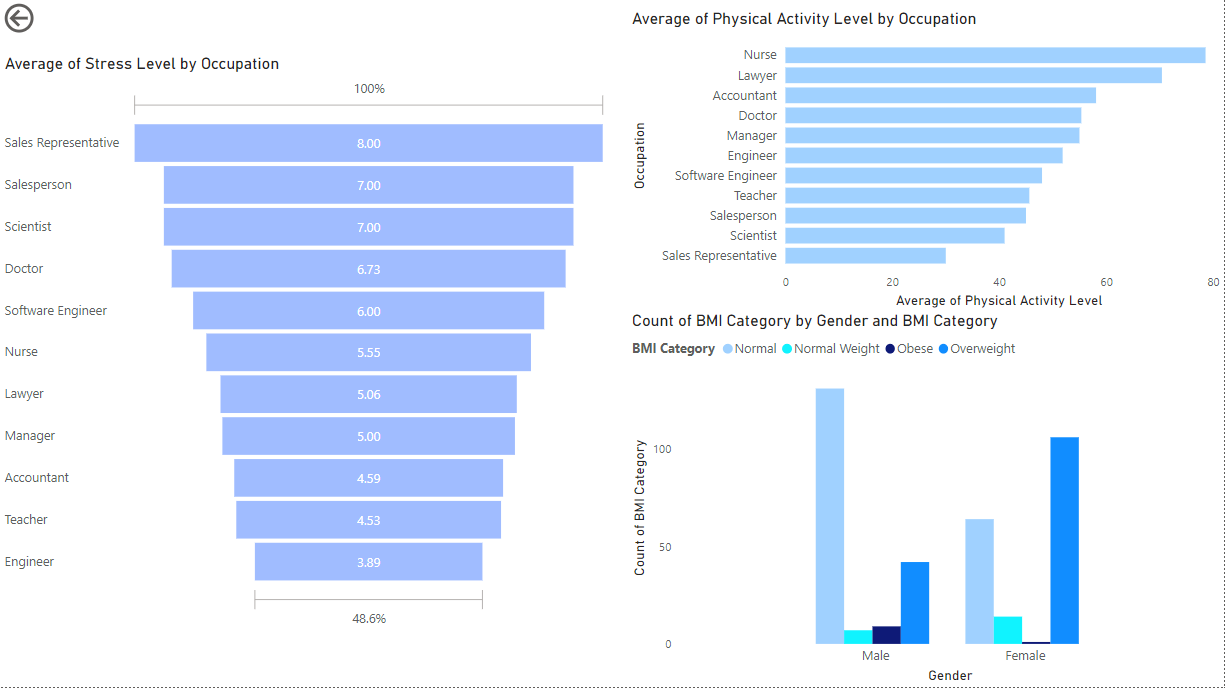

The page's visual inventory and layout, read from the dashboard file:
{"tool":"powerbi","page":{"name":"D2","canvas":[1280,720],"ordinal":1},"visuals":[{"type":"clusteredBarChart","fields":{"Category":["Sleep_health_and_lifestyle_dataset.Occupation"],"Y":["Avg(Sleep_health_and_lifestyle_dataset.Physical Activity Level)"]},"box":[655.7,10,624.3,317.1],"z":0},{"type":"funnel","fields":{"Category":["Sleep_health_and_lifestyle_dataset.Occupation"],"Y":["Avg(Sleep_health_and_lifestyle_dataset.Stress Level)"]},"box":[0,57.1,640,605.7],"z":1000},{"type":"actionButton","box":[0,0,100,40],"z":2000},{"type":"clusteredColumnChart","fields":{"Category":["Sleep_health_and_lifestyle_dataset.Gender"],"Y":["CountNonNull(Sleep_health_and_lifestyle_dataset.BMI Category)"],"Series":["Sleep_health_and_lifestyle_dataset.BMI Category"]},"box":[655.7,327.1,624.3,392.9],"z":3000}]}

Visuals, with their boxes in screenshot pixels (x1, y1, x2, y2), scaled from the page's 1280x720 canvas onto the 1225x688 screenshot:
clusteredBarChart - Sleep_health_and_lifestyle_dataset.Occupation x Avg(Sleep_health_and_lifestyle_dataset.Physical Activity Level): bbox(628, 10, 1224, 313)
funnel - Sleep_health_and_lifestyle_dataset.Occupation x Avg(Sleep_health_and_lifestyle_dataset.Stress Level): bbox(0, 55, 612, 633)
actionButton: bbox(0, 0, 96, 38)
clusteredColumnChart - Sleep_health_and_lifestyle_dataset.Gender x CountNonNull(Sleep_health_and_lifestyle_dataset.BMI Category): bbox(628, 313, 1224, 687)
